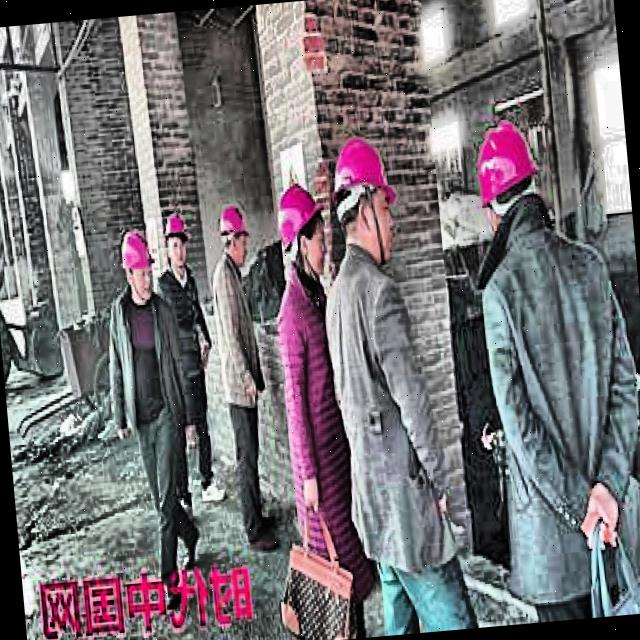helmet: (326, 124, 404, 263), (472, 110, 549, 232), (275, 174, 322, 276), (118, 225, 156, 299), (162, 202, 194, 273), (217, 199, 250, 259)
